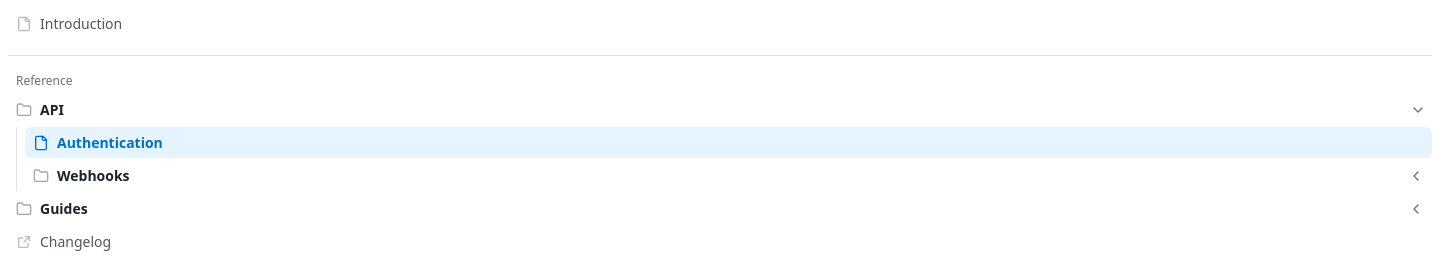
Test case: DocsSidebar collapse state › collapses the group holding the active page when asked
Click the button named "Collapse API": [1418, 110] box [1404,96,1432,124]
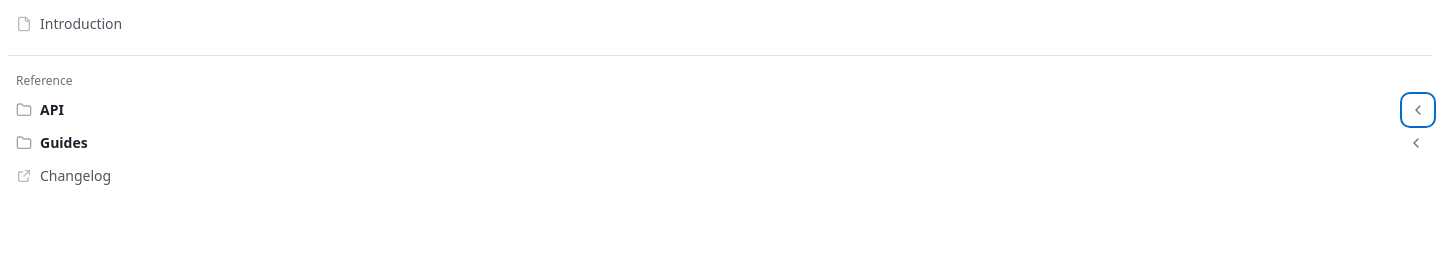
Result: the button named "Expand API" is collapsed at [1404,96,1432,124]
Result: the link "Authentication" is gone
